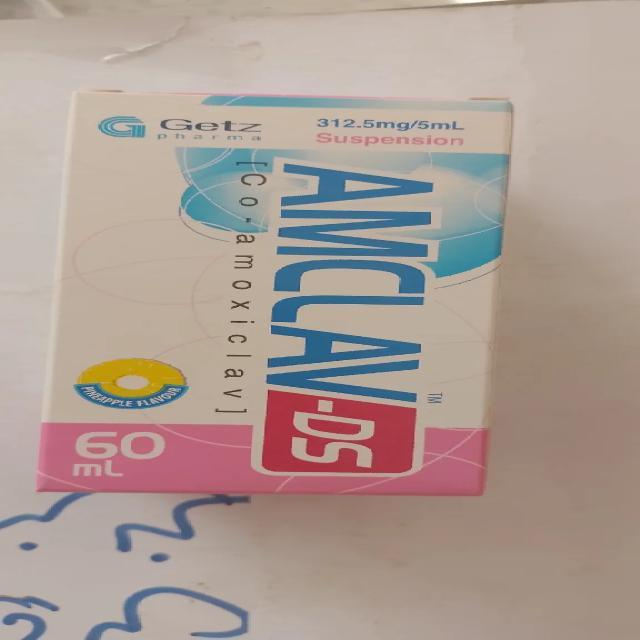drug-name: (256, 157, 438, 473)
